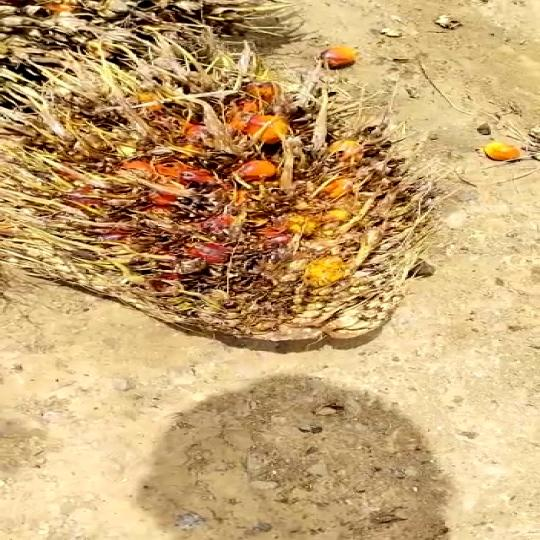terlalu masak: (14, 19, 444, 365)
